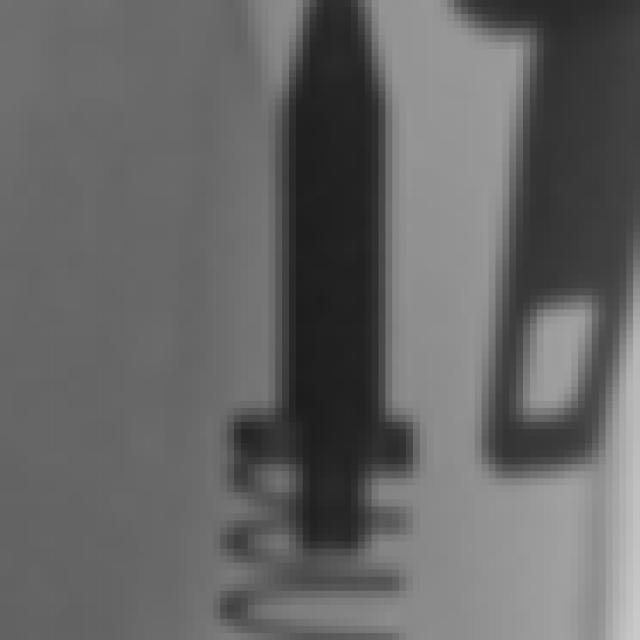GUN: (279, 27, 392, 557)
